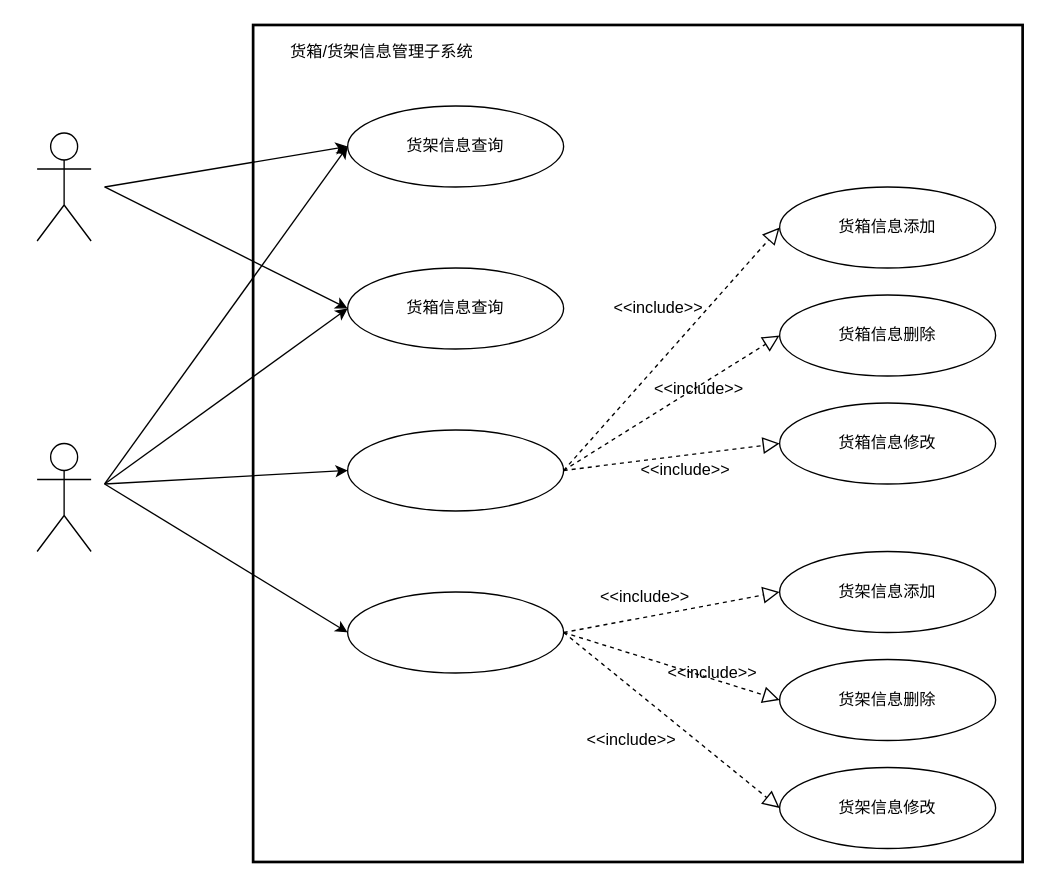
Some shapes in this 1048 by 886 pixel diagram are drawn without their labels. The shapes that lost their labels are listed below. From the top down, each one's centre as x and y in pixels, then its label:
[63,186]: 普通用户
[455,470]: 货箱信息管理
[63,496]: 管理员用户
[455,632]: 货架信息管理
